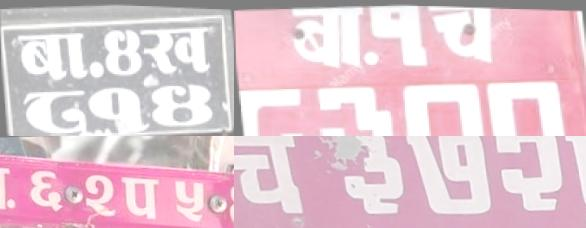0: (393, 73, 488, 136), (479, 71, 569, 136)
1: (364, 4, 432, 72), (86, 80, 151, 136)
2: (491, 136, 569, 225), (78, 166, 121, 220)
3: (326, 136, 409, 228), (308, 77, 394, 136)
4: (146, 73, 216, 133), (99, 23, 143, 79), (223, 178, 234, 223)
5: (167, 175, 212, 225)
6: (20, 161, 66, 215)
7: (399, 136, 496, 227), (559, 136, 586, 228)
8: (236, 80, 308, 136), (17, 82, 90, 136)
ba: (282, 4, 374, 79), (14, 25, 90, 87), (0, 158, 17, 215)
cha: (234, 136, 310, 228), (422, 5, 507, 73)
kha: (138, 18, 219, 78)
pa: (118, 168, 164, 222)
